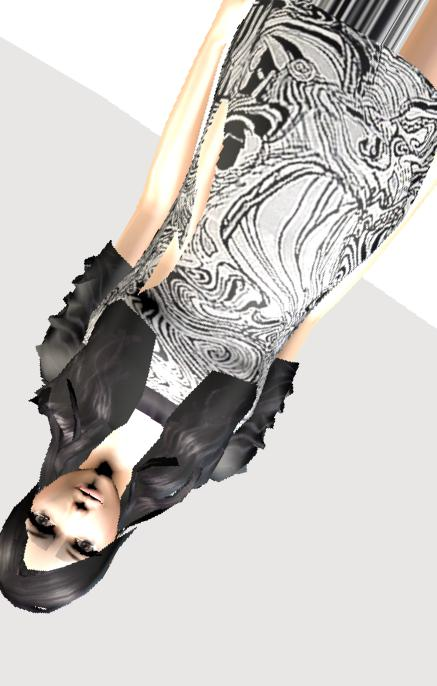clip: (200, 117, 231, 156)
